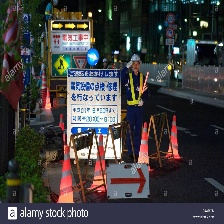helmet: (129, 54, 142, 65)
person: (124, 54, 148, 159)
vest: (127, 71, 146, 109)
